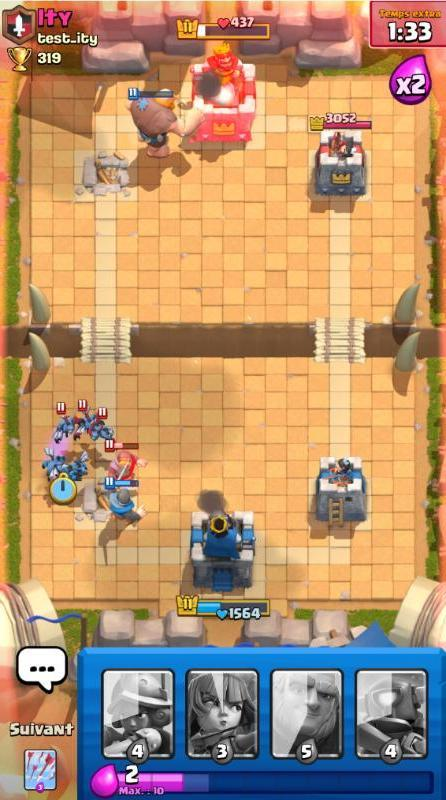enemy_knight: (100, 441, 152, 479)
enemy_minions: (85, 410, 114, 440)
player_giant: (125, 82, 193, 162)
player_knight: (98, 478, 147, 526)
player_minions: (39, 449, 69, 480), (50, 409, 80, 439), (64, 449, 92, 481)
